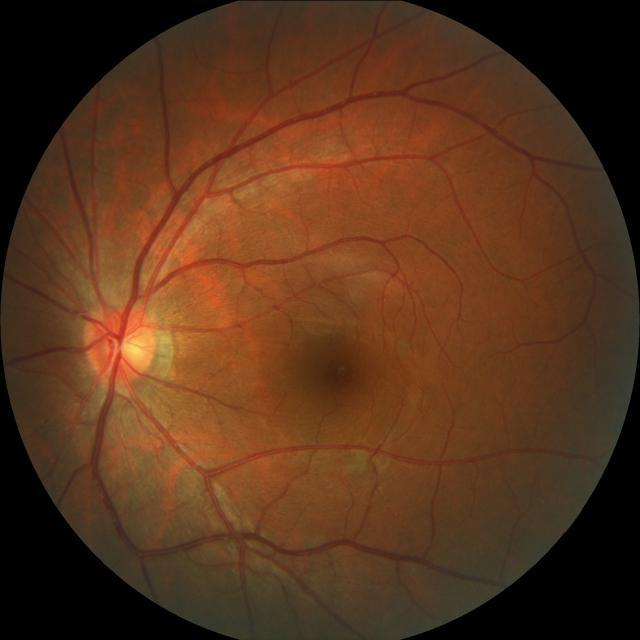OC: (118, 335, 144, 361)
OD: (83, 302, 158, 384)
